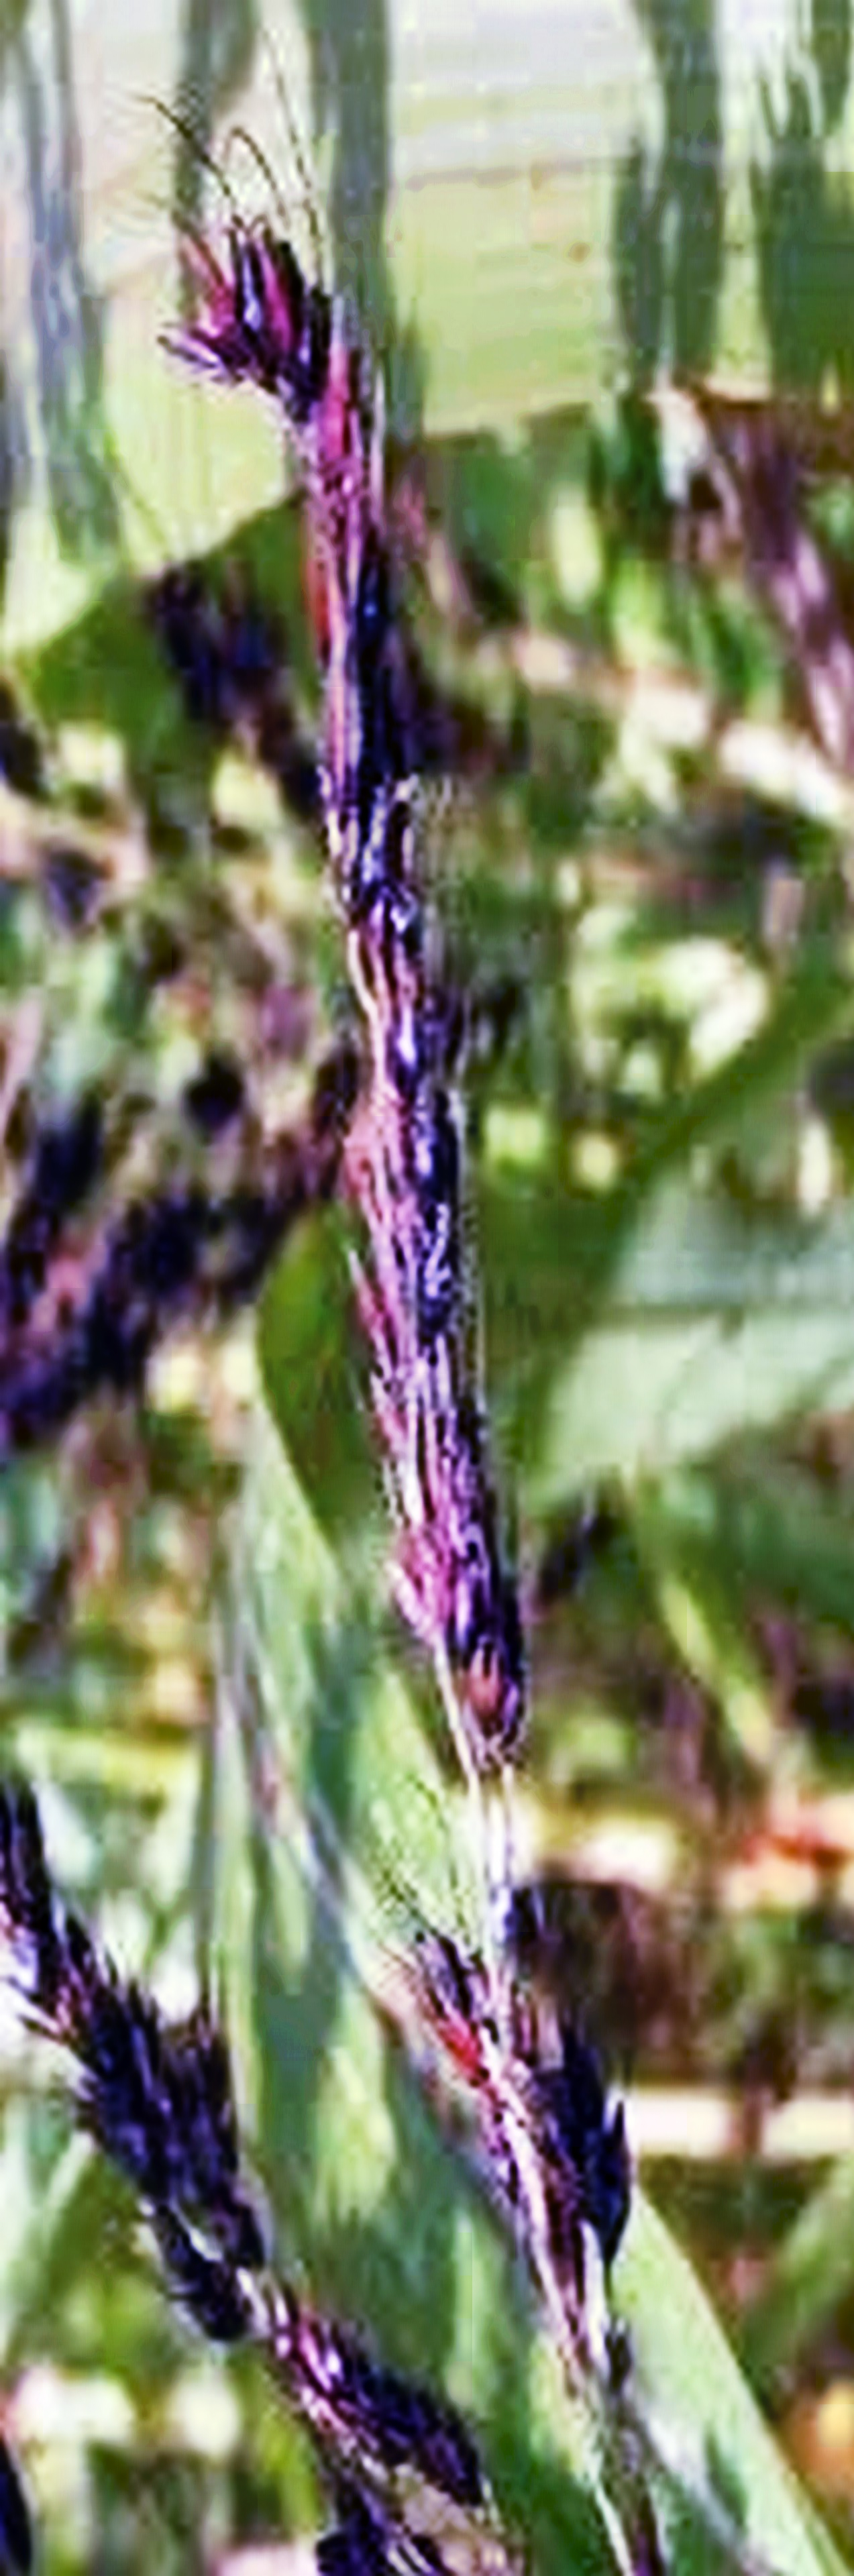Wheat Loose Smut: (179, 233, 580, 1797)
